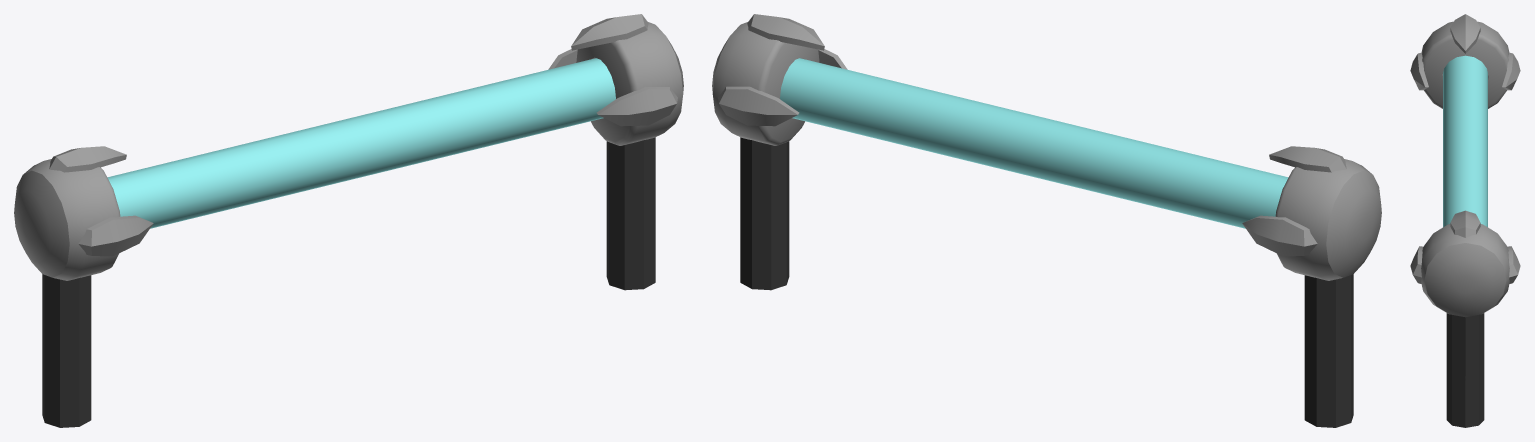
File: hazards-eletricity.fbx
3 renders of one model, left to right at view 1: azimuth 30°, elevation 25°; view 2: azimuth 150°, elevation 25°; view 3: azimuth 270°, elevation 25°, orthographic. The views are drawn at different scales.
Parts seen in each view (by area): view 1: Cylinder.007; view 2: Cylinder.007; view 3: Cylinder.007.
Boxes of the visible parts, box(x1,y1,x2,y2) form: Cylinder.007: box(14, 14, 683, 427); Cylinder.007: box(712, 14, 1381, 427); Cylinder.007: box(1410, 14, 1520, 427).
Bounding box in the file's own units: 672 × 267 × 134.
